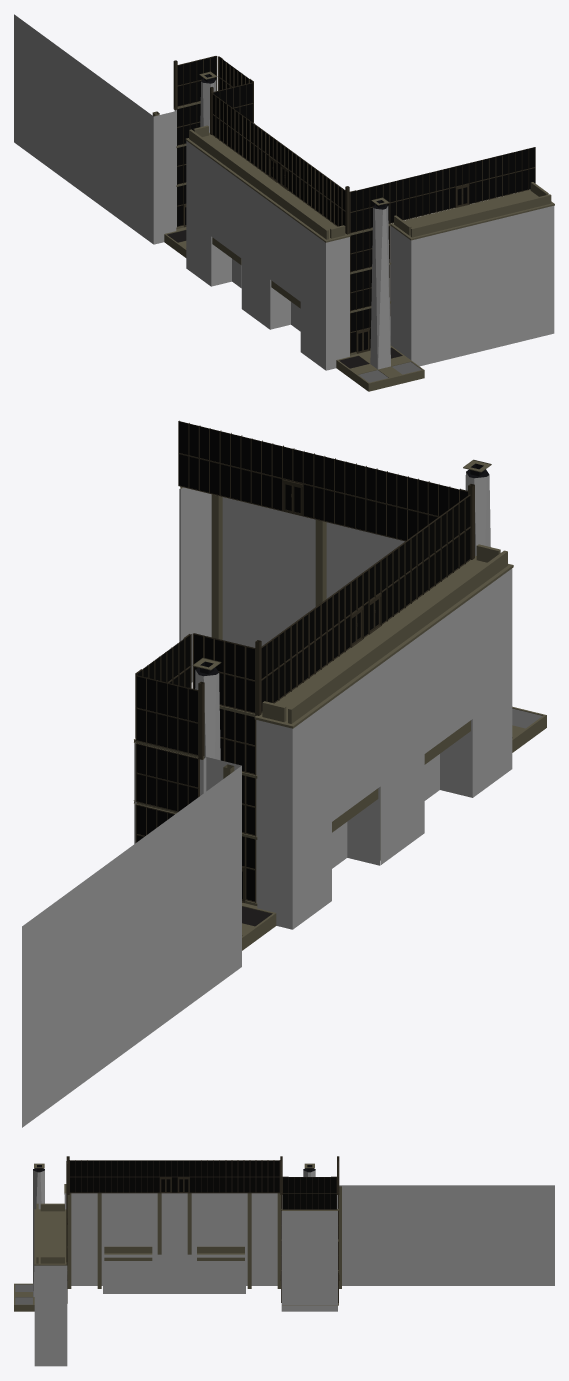
Rendered from SEL-W.fbx.
The picture shows the model from 3 angles, top to bottom: view 1: azimuth 30°, elevation 25°; view 2: azimuth 150°, elevation 25°; view 3: azimuth 270°, elevation 25°; orthographic projection. The views are drawn at different scales.
Visible parts, largest first — view 1: SELW-ExteriorWalls_161, SELW-ExteriorWalls_171, SEL-Window-BalconySegment1.001, SEL-Window-BalconySegment1.001_2, SELW-ExteriorWalls_172, SEL-MainColumn, SEL-Window6x6Door-Segment.001_2, SELW-ExteriorWalls_149, SEL-ColumnBase1_3, SELW-ExteriorWalls_175, SELW-ExteriorWalls_167, SELW-ExteriorWalls_79 (+23 smaller); view 2: SELW-ExteriorWalls_171, SELW-ExteriorWalls_161, SEL-Window-BalconySegment1.001, SEL-Window6x6Door-Segment.001_2, SELW-ExteriorWalls_168, SEL-Window6x6Door-Segment2.001, SEL-Window-BalconySegment1.001_2, SELW-ExteriorWalls_149, SELW-ExteriorWalls_160, SELW-ExteriorWalls_175, SELW-ExteriorWalls_167, SELW-ExteriorWalls_145 (+18 smaller); view 3: SELW-ExteriorWalls_171, SEL-Window-BalconySegment1.001, SELW-ExteriorWalls_157, SELW-ExteriorWalls, SELW-ExteriorWalls_160, SEL-Window-BalconySegment1.001_2, SELW-ExteriorWalls_149, SELW-ExteriorWalls_146, SELW-ExteriorWalls_145, SELW-ExteriorWalls_79, SELW-ExteriorWalls_147, SELW-ExteriorWalls_167 (+19 smaller).
Boxes of the visible parts, <box> form: SELW-ExteriorWalls_161: <box>411,206,554,366</box>; SELW-ExteriorWalls_171: <box>14,14,153,244</box>; SEL-Window-BalconySegment1.001: <box>212,94,345,226</box>; SEL-Window-BalconySegment1.001_2: <box>211,93,345,226</box>; SELW-ExteriorWalls_172: <box>153,111,176,244</box>; SEL-MainColumn: <box>370,206,390,369</box>; SEL-Window6x6Door-Segment.001_2: <box>177,56,216,226</box>; SELW-ExteriorWalls_149: <box>300,225,325,319</box>; SEL-ColumnBase1_3: <box>336,346,424,391</box>; SELW-ExteriorWalls_175: <box>242,259,270,329</box>; SELW-ExteriorWalls_167: <box>186,218,211,286</box>; SELW-ExteriorWalls_79: <box>393,189,538,236</box>; SELW-ExteriorWalls_171: <box>22,766,241,1127</box>; SELW-ExteriorWalls_161: <box>222,497,404,647</box>; SEL-Window-BalconySegment1.001: <box>261,496,470,711</box>; SEL-Window6x6Door-Segment.001_2: <box>136,676,197,841</box>; SELW-ExteriorWalls_168: <box>257,720,292,929</box>; SEL-Window6x6Door-Segment2.001: <box>194,634,254,901</box>; SEL-Window-BalconySegment1.001_2: <box>261,494,471,712</box>; SELW-ExteriorWalls_149: <box>472,568,512,718</box>; SELW-ExteriorWalls_160: <box>181,487,211,682</box>; SELW-ExteriorWalls_175: <box>380,754,424,865</box>; SELW-ExteriorWalls_167: <box>292,822,331,929</box>; SELW-ExteriorWalls_145: <box>332,726,380,821</box>; SELW-ExteriorWalls_171: <box>339,1185,554,1285</box>; SEL-Window-BalconySegment1.001: <box>70,1161,279,1192</box>; SELW-ExteriorWalls_157: <box>281,1211,337,1311</box>; SELW-ExteriorWalls: <box>103,1254,245,1293</box>; SELW-ExteriorWalls_160: <box>34,1265,67,1366</box>; SEL-Window-BalconySegment1.001_2: <box>69,1160,280,1193</box>; SELW-ExteriorWalls_149: <box>71,1193,104,1246</box>; SELW-ExteriorWalls_146: <box>104,1216,152,1246</box>; SELW-ExteriorWalls_145: <box>197,1216,244,1246</box>; SELW-ExteriorWalls_79: <box>38,1210,66,1263</box>; SELW-ExteriorWalls_147: <box>152,1216,196,1246</box>; SELW-ExteriorWalls_167: <box>245,1246,277,1285</box>.
Size of the model in its own units: 24307 by 68605 by 19648.
